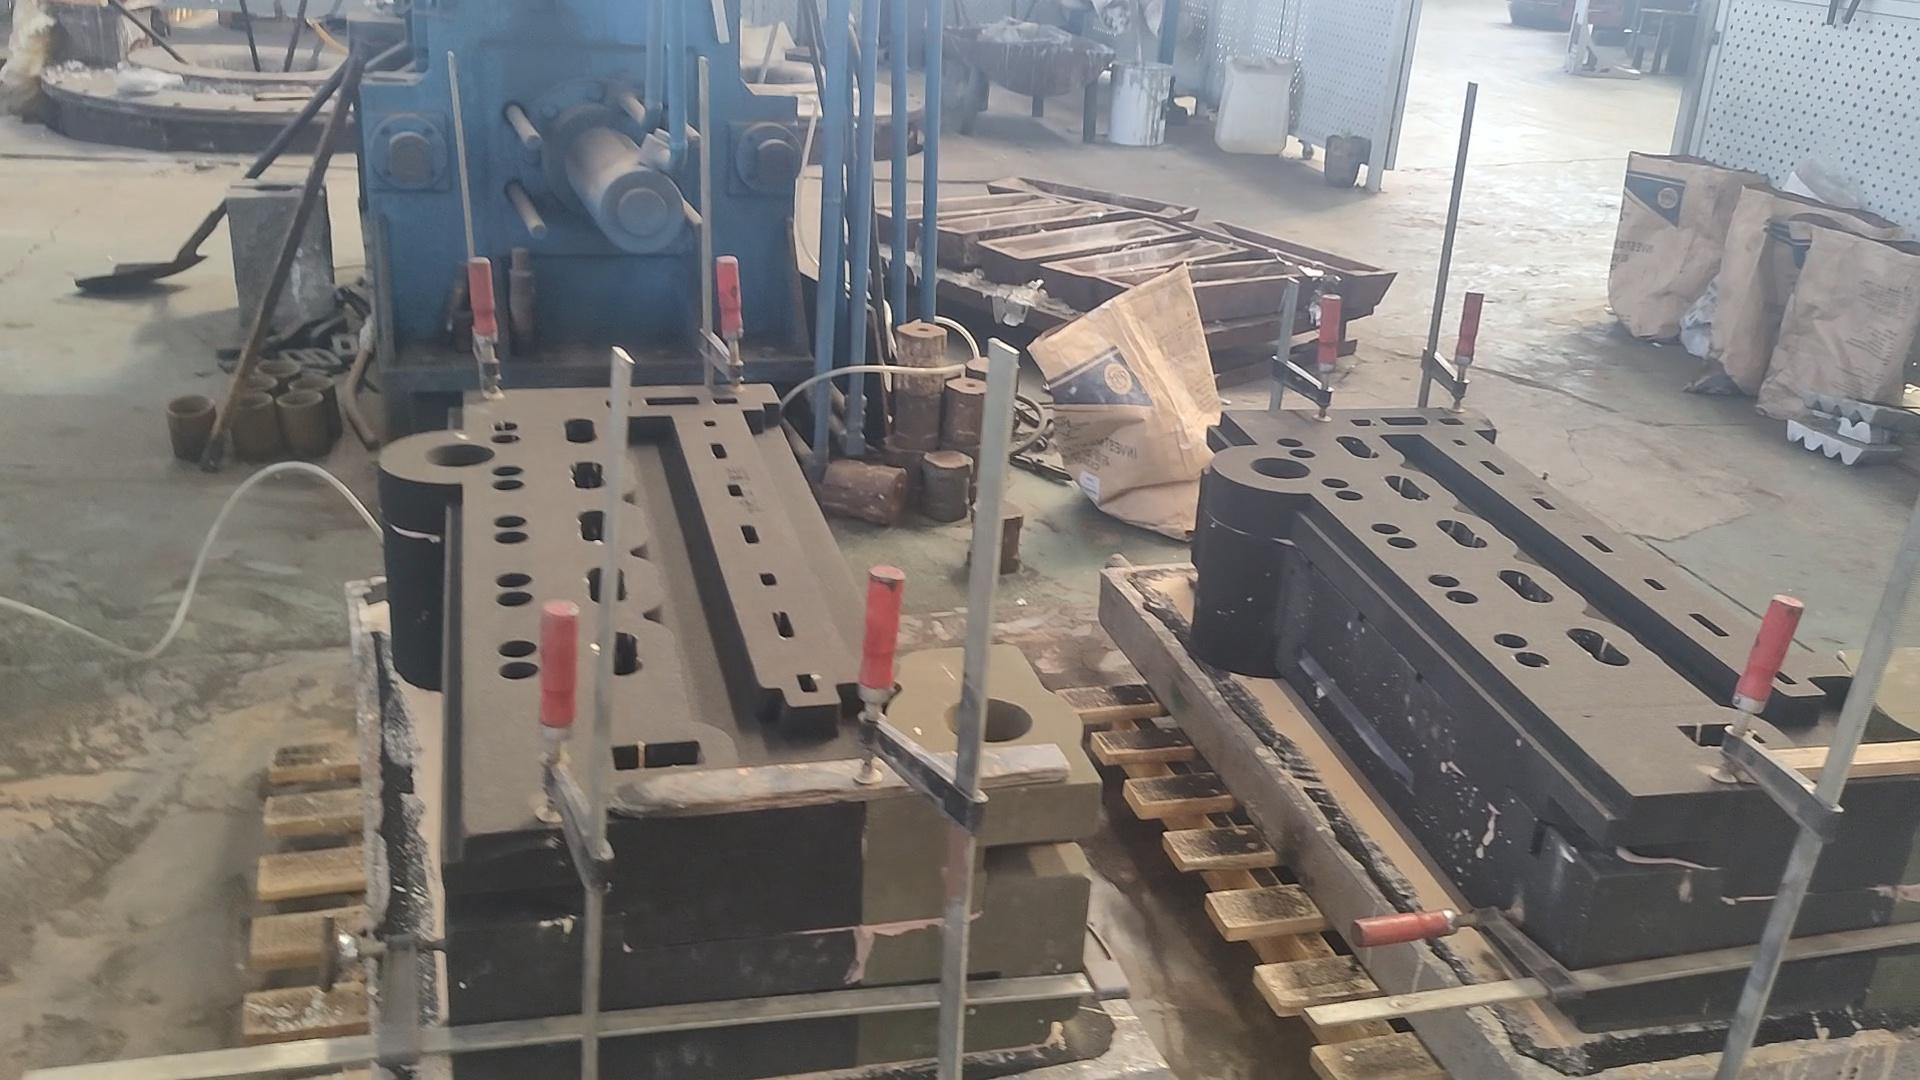pouring hole: (944, 695, 1034, 742), (425, 443, 495, 465), (1250, 458, 1311, 479), (166, 394, 214, 415), (276, 389, 322, 406), (287, 375, 334, 392), (255, 359, 299, 376), (229, 375, 277, 390), (225, 392, 272, 407)
